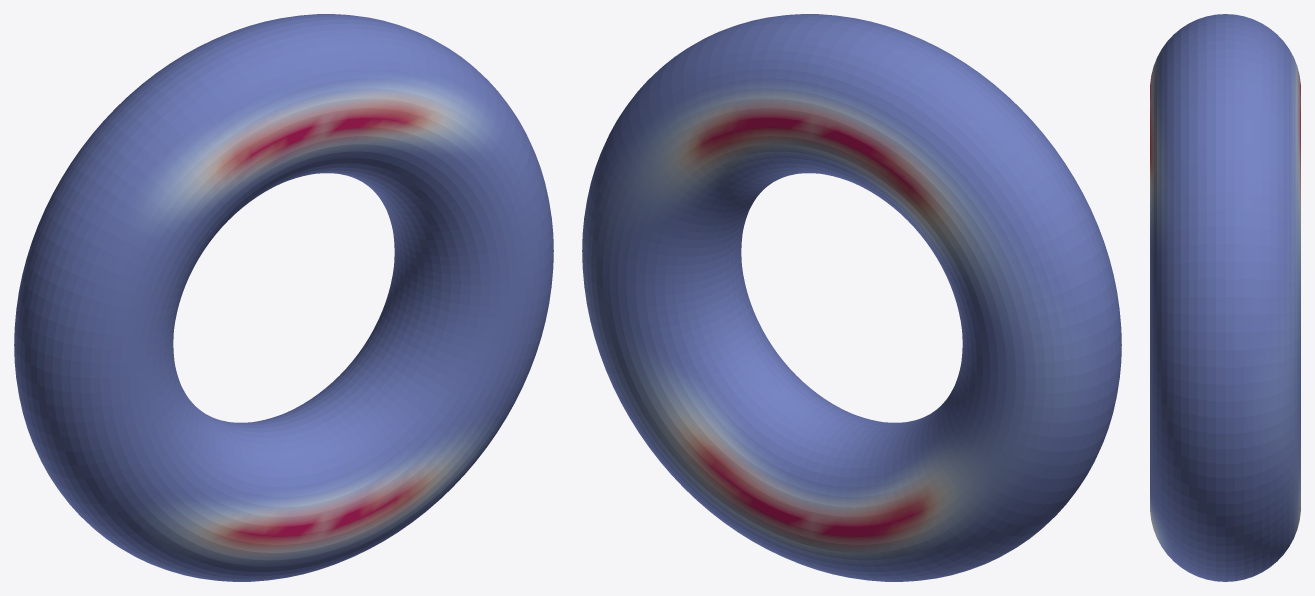
3 views of the same model, side by side, from view 1: azimuth 30°, elevation 25°; view 2: azimuth 150°, elevation 25°; view 3: azimuth 270°, elevation 25° (orthographic). The views are drawn at different scales.
Parts seen in each view (by area): view 1: world; view 2: world; view 3: world.
Boxes of the visible parts, <box> form: world: <box>14,14,553,581</box>; world: <box>582,14,1121,581</box>; world: <box>1150,14,1300,581</box>.
Bounding box in the file's own units: 14.53 × 14.53 × 3.86.
